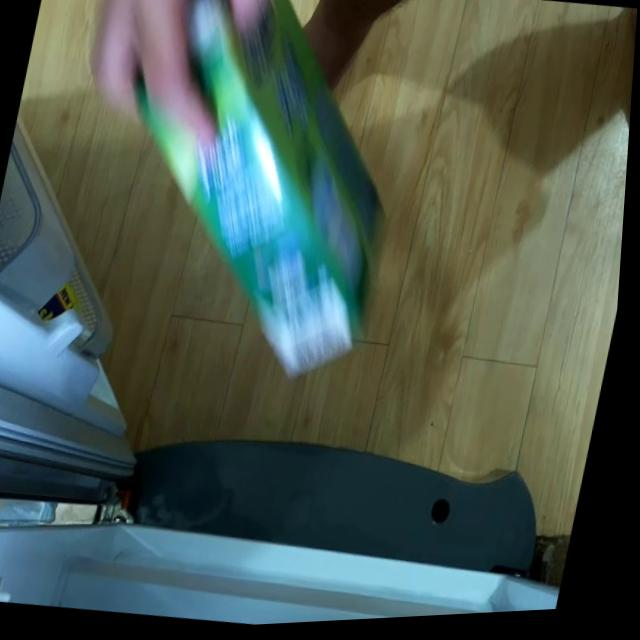milk: (74, 0, 434, 393)
